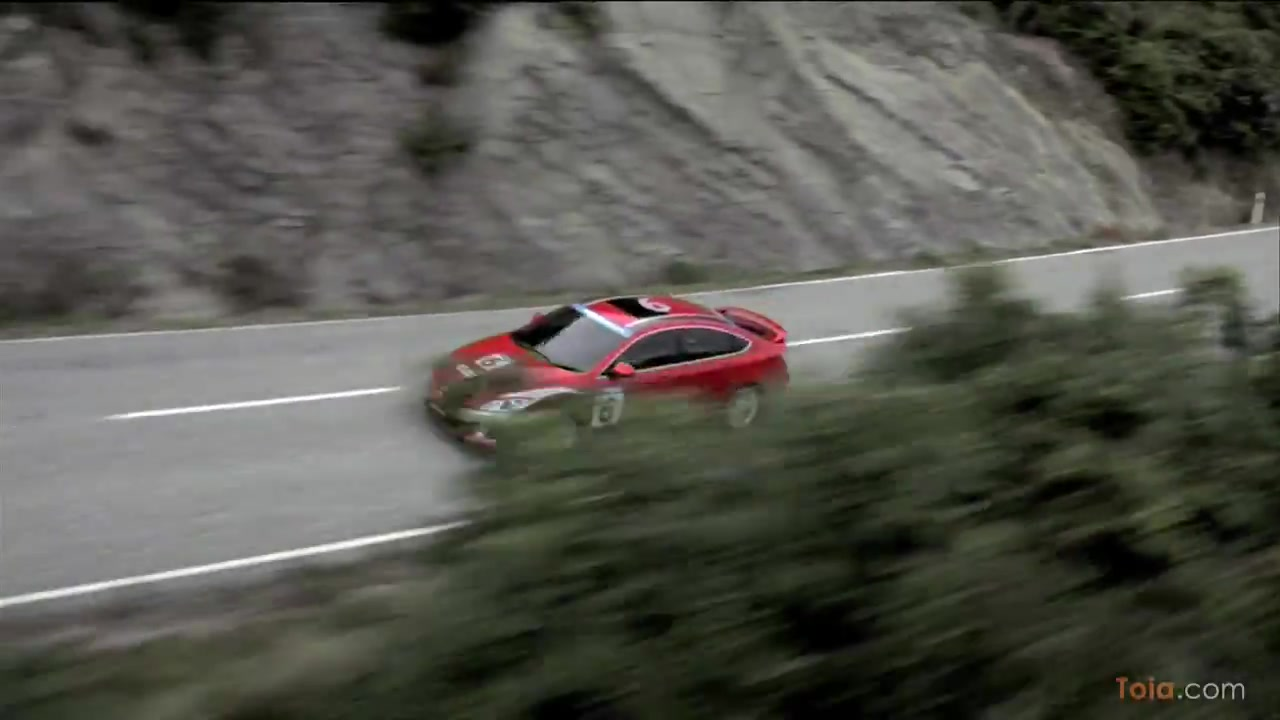car: (422, 291, 793, 468)
